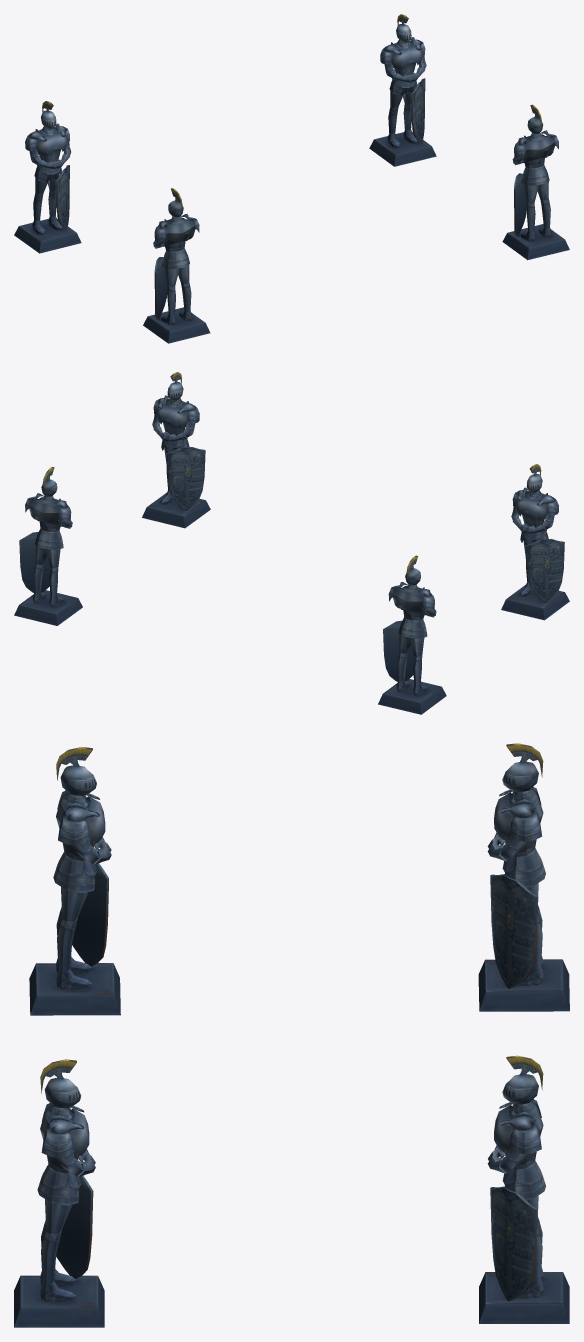
File: wujian42.fbx
The picture shows the model from 3 angles, top to bottom: view 1: azimuth 30°, elevation 25°; view 2: azimuth 150°, elevation 25°; view 3: azimuth 270°, elevation 25°; orthographic projection. The views are drawn at different scales.
Visible parts, largest first — view 1: wujian42; view 2: wujian42; view 3: wujian42.
Boxes of the visible parts, bbox=[...] form: wujian42: bbox=[14, 14, 569, 343]; wujian42: bbox=[14, 372, 569, 714]; wujian42: bbox=[14, 743, 569, 1327].
Size of the model in its own units: 1803 by 592 by 1197.
1 material, 1 textured.
